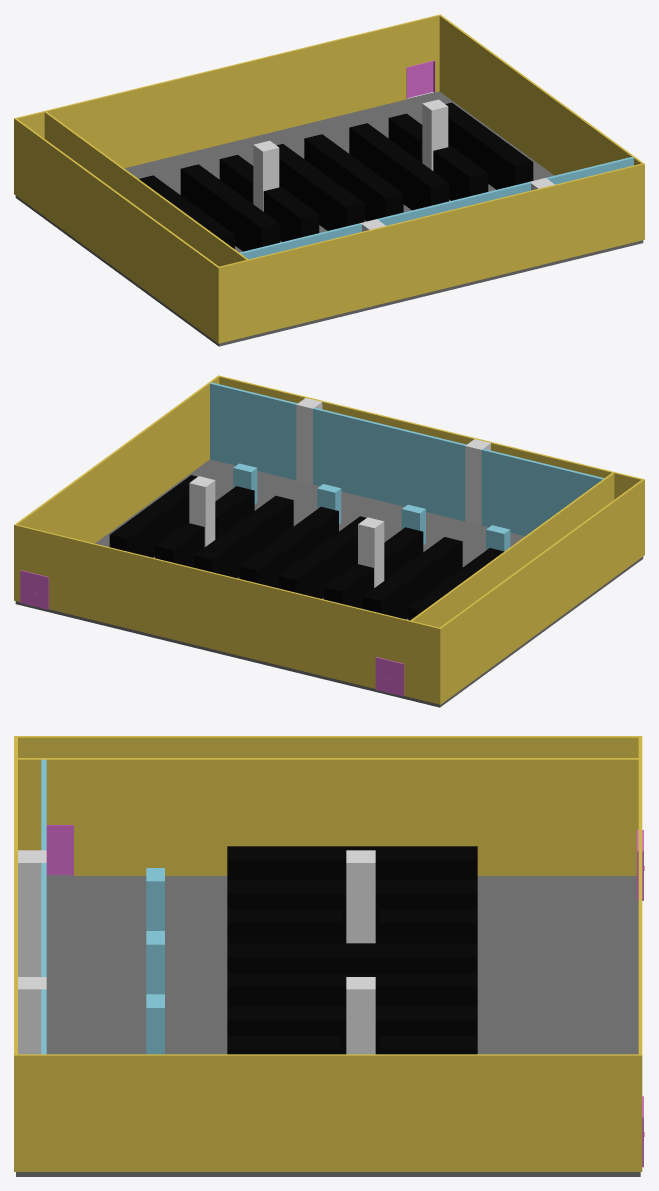
Rendered from DLCHall.glb.
3 renders of one model, top to bottom at view 1: azimuth 30°, elevation 25°; view 2: azimuth 150°, elevation 25°; view 3: azimuth 270°, elevation 25°, orthographic. The views are drawn at different scales.
Parts seen in each view (by area): view 1: 標準壁 PC - 150 mm [140621], 標準壁 内壁 - 135 mm 間仕切り(2時間) [141911], 標準壁 内壁 - 135 mm 間仕切り(2時間) [143327], 標準壁 内壁 - 135 mm 間仕切り(2時間) [142879], 床 現場打ちコンクリート 225 mm [202686], 標準壁 内壁 - 135 mm 間仕切り(2時間) [143040], ラック1 ラック [206988], ラック6 ラック [207866], ラック5 ラック [207670], ラック4 ラック [207484], ラック10 ラック [208180], ラック2 ラック [207175] (+11 smaller); view 2: 標準壁 内壁 - 135 mm 間仕切り(2時間) [141911], 標準壁 内壁 - 135 mm 間仕切り(2時間) [143327], 標準壁 内壁 - 135 mm 間仕切り(2時間) [142879], 標準壁 一般 - 200 mm [143987], 床 現場打ちコンクリート 225 mm [202686], 標準壁 一般 - 200 mm [144151], 標準壁 一般 - 200 mm [144311], 標準壁 内壁 - 135 mm 間仕切り(2時間) [143040], 標準壁 PC - 150 mm [140621], ラック1 ラック [206988], ラック6 ラック [207866], ラック5 ラック [207670] (+15 smaller); view 3: 標準壁 内壁 - 135 mm 間仕切り(2時間) [142879], 標準壁 内壁 - 135 mm 間仕切り(2時間) [143040], 床 現場打ちコンクリート 225 mm [202686], 標準壁 内壁 - 135 mm 間仕切り(2時間) [143327], ラック ラック [204903], ラック5 ラック [207670], ラック4 ラック [207484], ラック1 ラック [206988], ラック6 ラック [207866], ラック2 ラック [207175], 一時的な構造 1 一時的な構造 1 [209668], ラック3 ラック [207216] (+10 smaller).
Part boxes in pixels (x1,y1,x2,y2): 標準壁 PC - 150 mm [140621]: (217,163,644,343); 標準壁 内壁 - 135 mm 間仕切り(2時間) [141911]: (16,15,439,168); 標準壁 内壁 - 135 mm 間仕切り(2時間) [143327]: (14,118,218,342); 標準壁 内壁 - 135 mm 間仕切り(2時間) [142879]: (438,14,642,175); 床 現場打ちコンクリート 225 mm [202686]: (124,91,643,339); 標準壁 内壁 - 135 mm 間仕切り(2時間) [143040]: (44,111,248,266); ラック1 ラック [206988]: (180,164,280,251); ラック6 ラック [207866]: (349,123,448,210); ラック5 ラック [207670]: (304,134,403,221); ラック4 ラック [207484]: (277,144,364,230); ラック10 ラック [208180]: (445,102,533,189); ラック2 ラック [207175]: (263,187,319,241); 標準壁 内壁 - 135 mm 間仕切り(2時間) [141911]: (16,524,438,703); 標準壁 内壁 - 135 mm 間仕切り(2時間) [143327]: (438,480,643,704); 標準壁 内壁 - 135 mm 間仕切り(2時間) [142879]: (14,376,219,600); 標準壁 一般 - 200 mm [143987]: (313,407,466,521); 床 現場打ちコンクリート 225 mm [202686]: (15,459,524,700); 標準壁 一般 - 200 mm [144151]: (210,382,297,480); 標準壁 一般 - 200 mm [144311]: (481,448,604,536); 標準壁 内壁 - 135 mm 間仕切り(2時間) [143040]: (410,472,614,627); 標準壁 PC - 150 mm [140621]: (217,375,644,555); ラック1 ラック [206988]: (363,537,462,619); ラック6 ラック [207866]: (194,495,293,578); ラック5 ラック [207670]: (239,507,338,588); 標準壁 内壁 - 135 mm 間仕切り(2時間) [142879]: (18,1054,642,1171); 標準壁 内壁 - 135 mm 間仕切り(2時間) [143040]: (18,758,638,875); 床 現場打ちコンクリート 225 mm [202686]: (16,875,640,1176); 標準壁 内壁 - 135 mm 間仕切り(2時間) [143327]: (18,736,642,757); ラック ラック [204903]: (227,846,477,879); ラック5 ラック [207670]: (227,973,477,1006); ラック4 ラック [207484]: (227,943,477,972); ラック1 ラック [206988]: (227,880,477,943); ラック6 ラック [207866]: (227,1006,477,1054); ラック2 ラック [207175]: (227,909,342,943); 一時的な構造 1 一時的な構造 1 [209668]: (146,868,164,1054); ラック3 ラック [207216]: (379,909,477,943).
Size of the model in its own units: 28.29 by 5.03 by 23.59.
